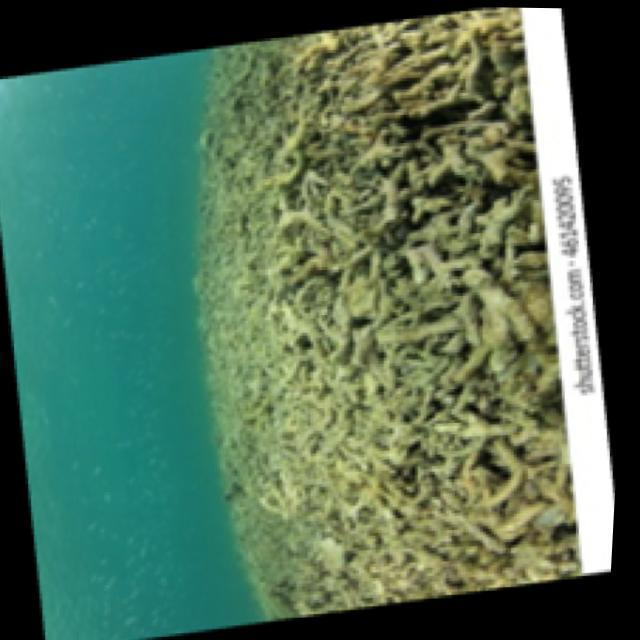Dead Coral: (261, 262, 555, 577), (237, 19, 521, 273)
